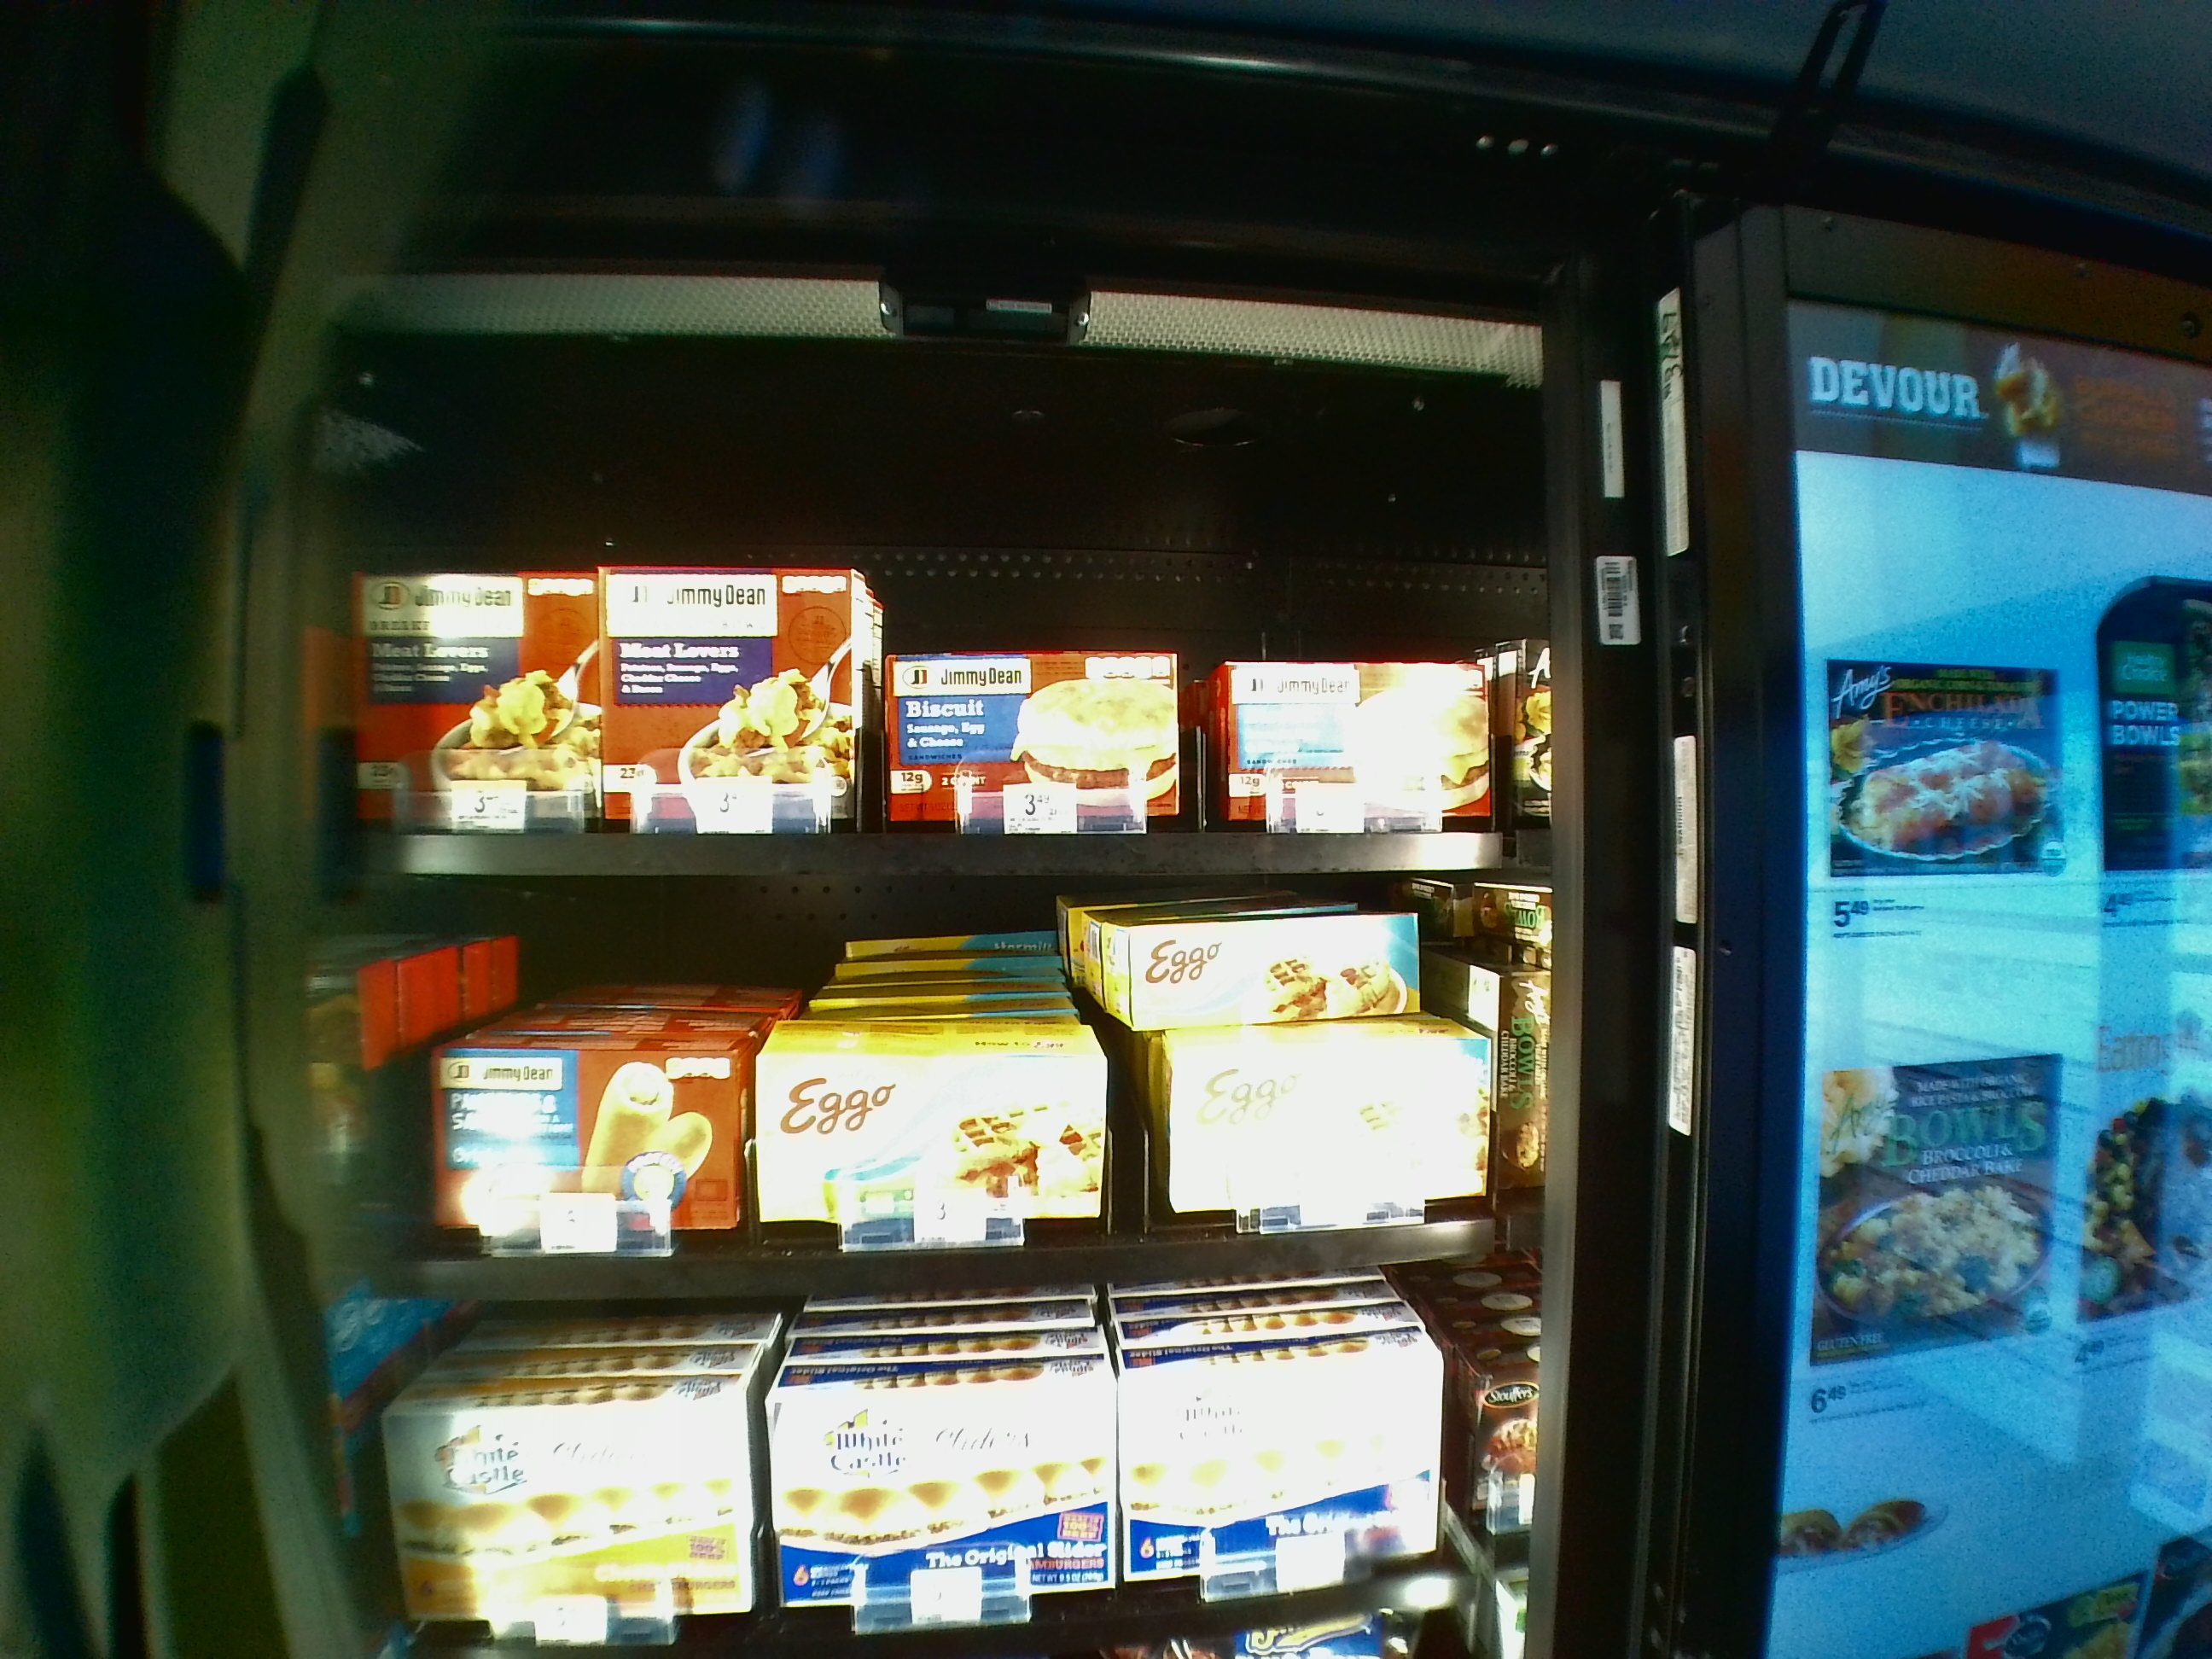shelf: (334, 385, 1536, 884), (331, 894, 1541, 1303)
